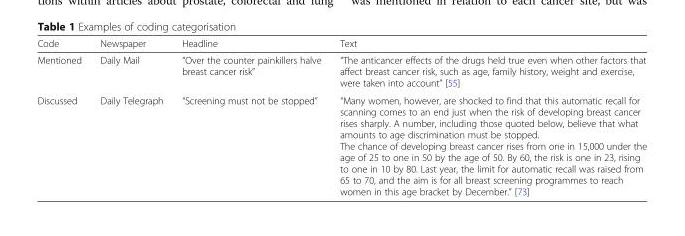table: (36, 37, 646, 196)
table column: (329, 37, 646, 196), (171, 37, 329, 196), (90, 37, 171, 196), (36, 37, 90, 196)
table column header: (36, 37, 646, 51)
table row: (36, 91, 646, 196), (36, 51, 646, 91), (36, 37, 646, 51)
